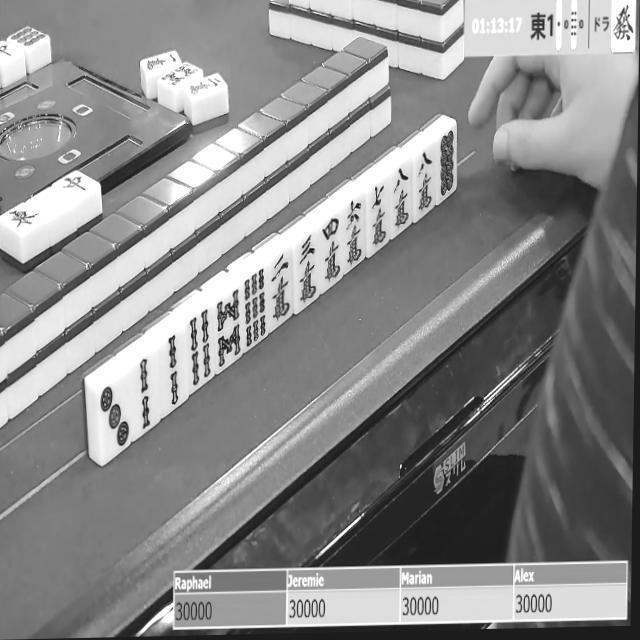fa: (613, 0, 636, 51)
m2: (269, 250, 296, 327)
m3: (294, 231, 323, 308)
m4: (318, 215, 345, 288)
m6: (343, 196, 369, 271)
m7: (367, 178, 393, 252)
m8: (388, 162, 414, 235), (413, 146, 436, 218)
s2: (160, 330, 189, 414), (131, 353, 159, 437)
s4: (186, 309, 216, 392)
s8: (215, 291, 246, 374)
s9: (243, 268, 273, 353)
t3: (97, 376, 132, 457)
t8: (438, 128, 458, 201)
